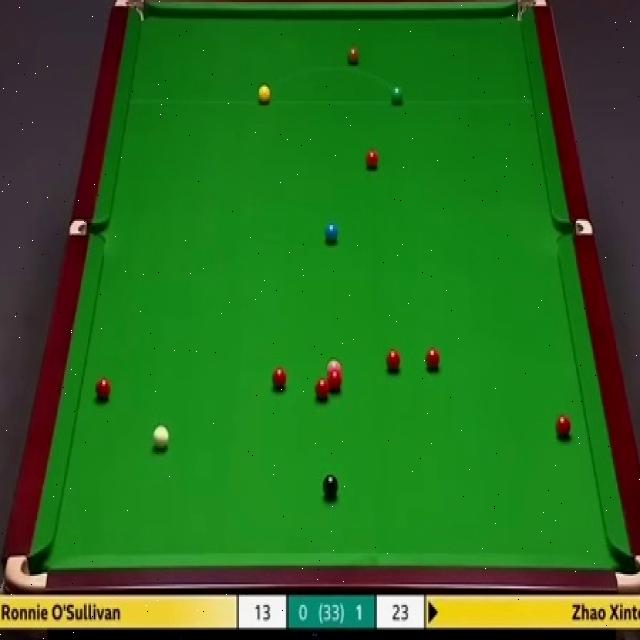black-ball: (322, 473, 341, 500)
blue-ball: (323, 221, 338, 244)
brown-ball: (347, 46, 359, 67)
green-ball: (390, 84, 403, 105)
pink-ball: (326, 359, 342, 374)
red-ball: (95, 375, 112, 403), (555, 416, 573, 439), (424, 347, 440, 372), (363, 148, 380, 171), (384, 348, 400, 372), (326, 371, 343, 392), (271, 368, 287, 390), (315, 380, 330, 400)
white-ball: (152, 423, 169, 450)
yellow-ball: (257, 83, 271, 104)
